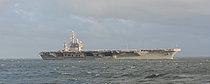MIL_Ship: (37, 30, 181, 60)
